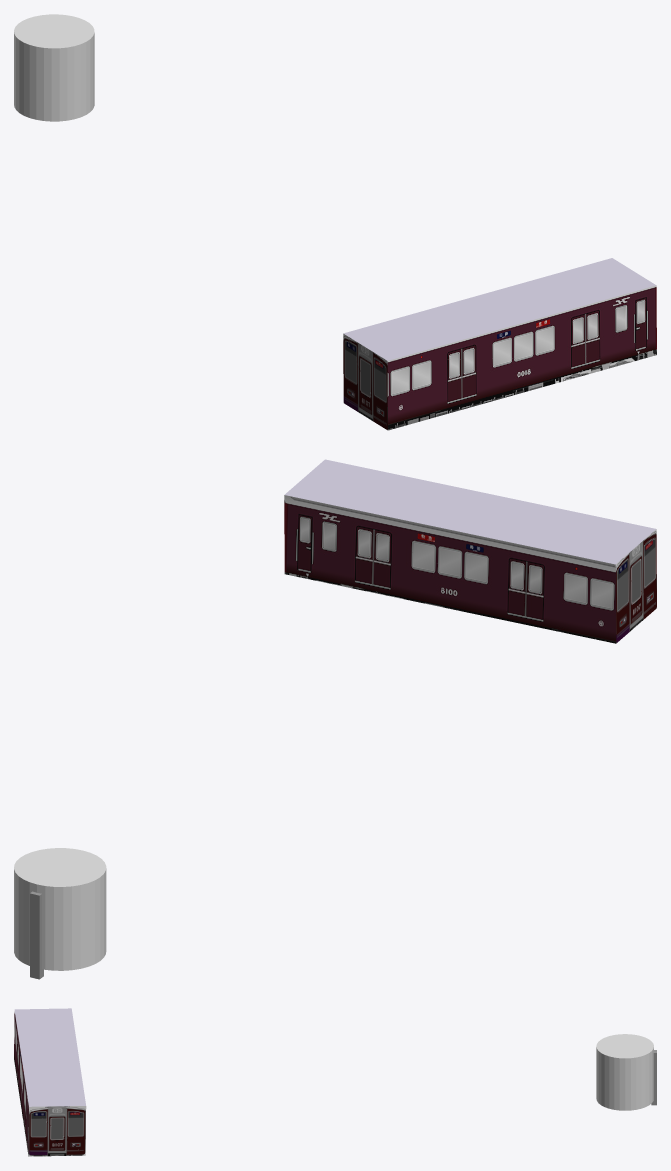
Rendered from dennsixya1.glb.
The picture shows the model from 3 angles, top to bottom: view 1: azimuth 30°, elevation 25°; view 2: azimuth 150°, elevation 25°; view 3: azimuth 270°, elevation 25°; orthographic projection. The views are drawn at different scales.
Parts seen in each view (by area): view 1: Cube.001, 円柱; view 2: Cube.001, 円柱, まくらぎ.001; view 3: Cube.001, 円柱.
Part boxes in pixels (<box>): Cube.001: <box>343,258,656,430</box>; 円柱: <box>14,14,94,121</box>; Cube.001: <box>284,459,656,643</box>; 円柱: <box>14,848,106,970</box>; まくらぎ.001: <box>30,891,43,979</box>; Cube.001: <box>14,1008,86,1156</box>; 円柱: <box>596,1034,653,1110</box>.
Size of the model in its own units: 8.11 by 2.36 by 22.27.
Materials: 8 (2 with a texture image).
